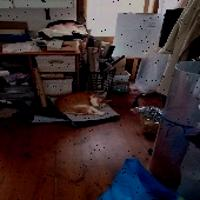asleep: (54, 91, 111, 116)
